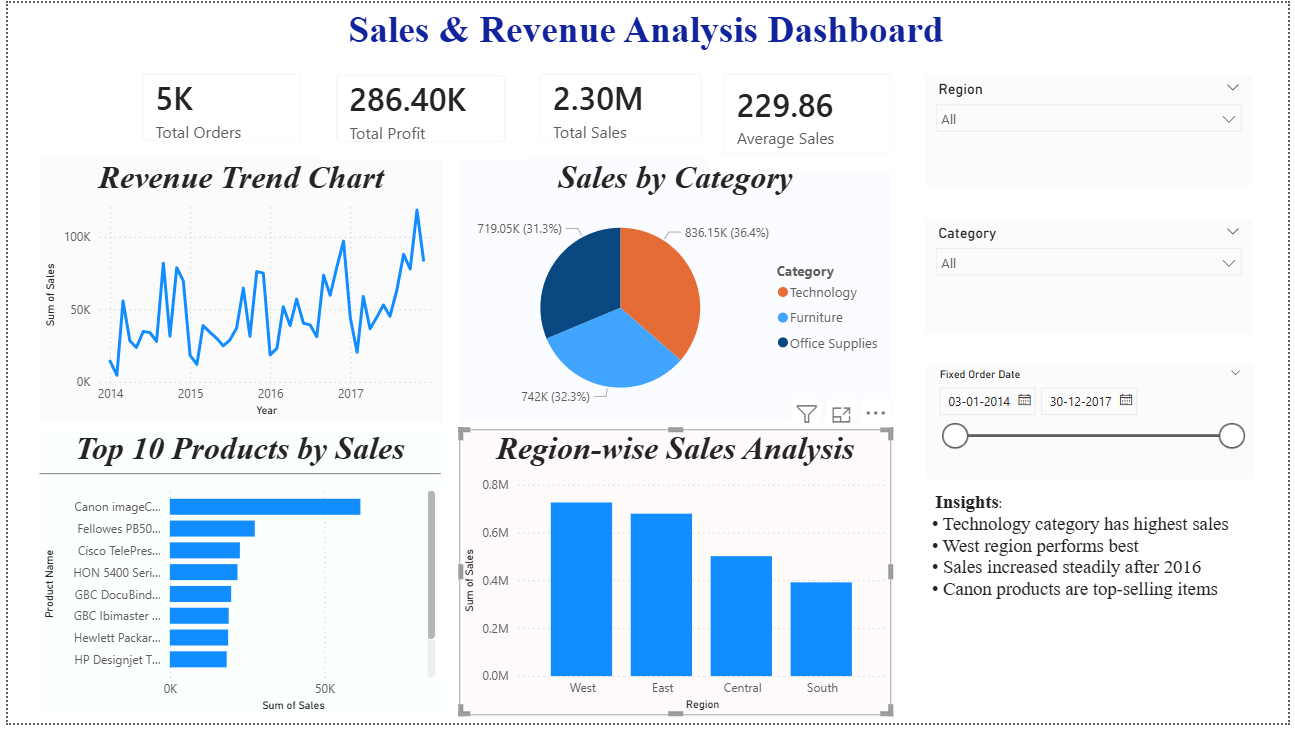

What the dashboard file says about the page in this screenshot:
{"tool":"powerbi","page":{"name":"Page 1","canvas":[1280,720],"ordinal":0},"visuals":[{"type":"lineChart","title":"Revenue Trend Chart","fields":{"Y":["Sum(C:\\Users\\amrut\\OneDrive\\Desktop\\Super_storedataset\\_Sample _Superstore csv.Sales)"],"Category":["C:\\Users\\amrut\\OneDrive\\Desktop\\Super_storedataset\\_Sample _Superstore csv.Fixed Order Date.Variation.Date Hierarchy.Yea","C:\\Users\\amrut\\OneDrive\\Desktop\\Super_storedataset\\_Sample _Superstore csv.Fixed Order Date.Variation.Date Hierarchy.Qua","C:\\Users\\amrut\\OneDrive\\Desktop\\Super_storedataset\\_Sample _Superstore csv.Fixed Order Date.Variation.Date Hierarchy.Mon"]},"box":[32.5,155,401.2,263.8],"z":0},{"type":"clusteredBarChart","title":"Top 10 Products by Sales","fields":{"Category":["C:\\Users\\amrut\\OneDrive\\Desktop\\Super_storedataset\\_Sample _Superstore csv.Product Name"],"Y":["Sum(C:\\Users\\amrut\\OneDrive\\Desktop\\Super_storedataset\\_Sample _Superstore csv.Sales)"]},"box":[31.2,426.2,401.2,286.2],"z":1000},{"type":"pieChart","title":"Sales by Category","fields":{"Category":["C:\\Users\\amrut\\OneDrive\\Desktop\\Super_storedataset\\_Sample _Superstore csv.Category"],"Y":["Sum(C:\\Users\\amrut\\OneDrive\\Desktop\\Super_storedataset\\_Sample _Superstore csv.Sales)"]},"box":[451.2,155,432.5,263.8],"z":2000},{"type":"cardVisual","fields":{"Data":["C:\\Users\\amrut\\OneDrive\\Desktop\\Super_storedataset\\_Sample _Superstore csv.Total Orders"]},"box":[117.5,53.8,193.8,101.2],"z":3000},{"type":"cardVisual","fields":{"Data":["C:\\Users\\amrut\\OneDrive\\Desktop\\Super_storedataset\\_Sample _Superstore csv.Total Profit"]},"box":[311.2,55,181.2,100],"z":4000},{"type":"cardVisual","fields":{"Data":["C:\\Users\\amrut\\OneDrive\\Desktop\\Super_storedataset\\_Sample _Superstore csv.Total Sales"]},"box":[515,53.8,196.2,101.2],"z":5000},{"type":"cardVisual","fields":{"Data":["C:\\Users\\amrut\\OneDrive\\Desktop\\Super_storedataset\\_Sample _Superstore csv.Average Sales"]},"box":[698.8,53.8,201.2,115],"z":6000},{"type":"clusteredColumnChart","title":"Region-wise Sales Analysis","fields":{"Category":["C:\\Users\\amrut\\OneDrive\\Desktop\\Super_storedataset\\_Sample _Superstore csv.Region"],"Y":["Sum(C:\\Users\\amrut\\OneDrive\\Desktop\\Super_storedataset\\_Sample _Superstore csv.Sales)"]},"box":[451.2,426.2,432.5,286.2],"z":7000},{"type":"slicer","fields":{"Values":["C:\\Users\\amrut\\OneDrive\\Desktop\\Super_storedataset\\_Sample _Superstore csv.Category"]},"box":[917.5,216.2,336.2,133.8],"z":8000},{"type":"slicer","fields":{"Values":["C:\\Users\\amrut\\OneDrive\\Desktop\\Super_storedataset\\_Sample _Superstore csv.Region"]},"box":[917.5,72.5,336.2,131.2],"z":9000},{"type":"slicer","fields":{"Values":["C:\\Users\\amrut\\OneDrive\\Desktop\\Super_storedataset\\_Sample _Superstore csv.Fixed Order Date"]},"box":[918.8,360,325,140],"z":10000},{"type":"textbox","box":[32.5,0,1211.2,53.8],"z":11000},{"type":"textbox","box":[918.8,521.2,325,160],"z":12000}]}

Visuals, with their boxes in screenshot pixels (x1, y1, x2, y2), scaled from the page's 1280x720 canvas onto the 1295x732 screenshot:
"Revenue Trend Chart" lineChart: (left=33, top=158, right=439, bottom=426)
"Top 10 Products by Sales" clusteredBarChart: (left=32, top=433, right=437, bottom=724)
"Sales by Category" pieChart: (left=456, top=158, right=894, bottom=426)
cardVisual - C:\Users\amrut\OneDrive\Desktop\Super_storedataset\_Sample _Superstore csv.Total Orders: (left=119, top=55, right=315, bottom=158)
cardVisual - C:\Users\amrut\OneDrive\Desktop\Super_storedataset\_Sample _Superstore csv.Total Profit: (left=315, top=56, right=498, bottom=158)
cardVisual - C:\Users\amrut\OneDrive\Desktop\Super_storedataset\_Sample _Superstore csv.Total Sales: (left=521, top=55, right=720, bottom=158)
cardVisual - C:\Users\amrut\OneDrive\Desktop\Super_storedataset\_Sample _Superstore csv.Average Sales: (left=707, top=55, right=911, bottom=172)
"Region-wise Sales Analysis" clusteredColumnChart: (left=456, top=433, right=894, bottom=724)
slicer - C:\Users\amrut\OneDrive\Desktop\Super_storedataset\_Sample _Superstore csv.Category: (left=928, top=220, right=1268, bottom=356)
slicer - C:\Users\amrut\OneDrive\Desktop\Super_storedataset\_Sample _Superstore csv.Region: (left=928, top=74, right=1268, bottom=207)
slicer - C:\Users\amrut\OneDrive\Desktop\Super_storedataset\_Sample _Superstore csv.Fixed Order Date: (left=930, top=366, right=1258, bottom=508)
textbox: (left=33, top=0, right=1258, bottom=55)
textbox: (left=930, top=530, right=1258, bottom=693)
